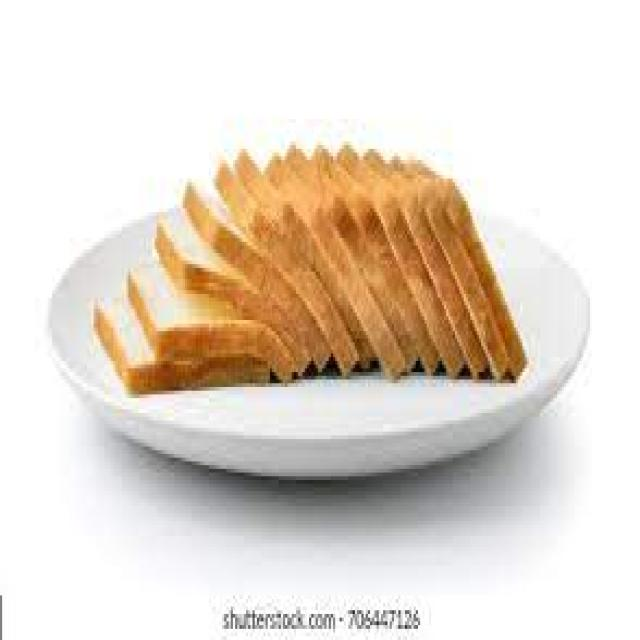Bread: (184, 186, 306, 332), (129, 265, 281, 364), (155, 212, 279, 330), (94, 299, 160, 390)
